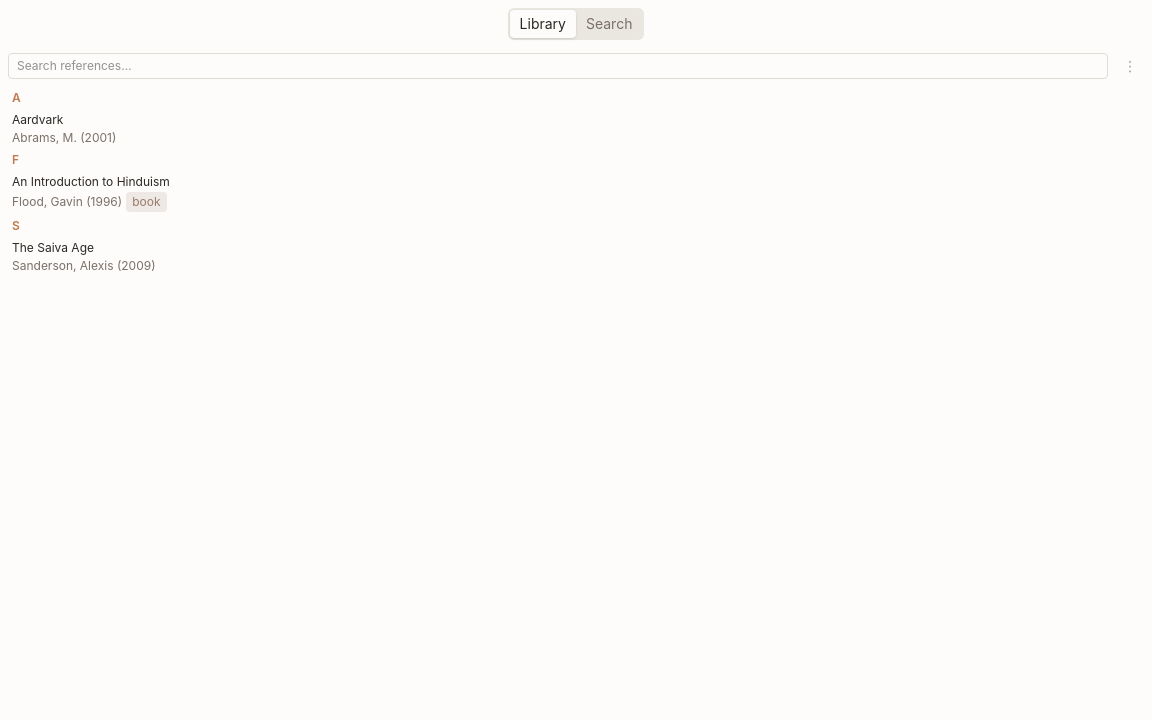
ReferenceLibrary › clicking an expanded entry collapses it
This screenshot has width=1152, height=720.
Click the text with test id "reference-entry-title" showing "The Saiva Age". click: click(53, 248)
box: x1=12 y1=240 x2=94 y2=255
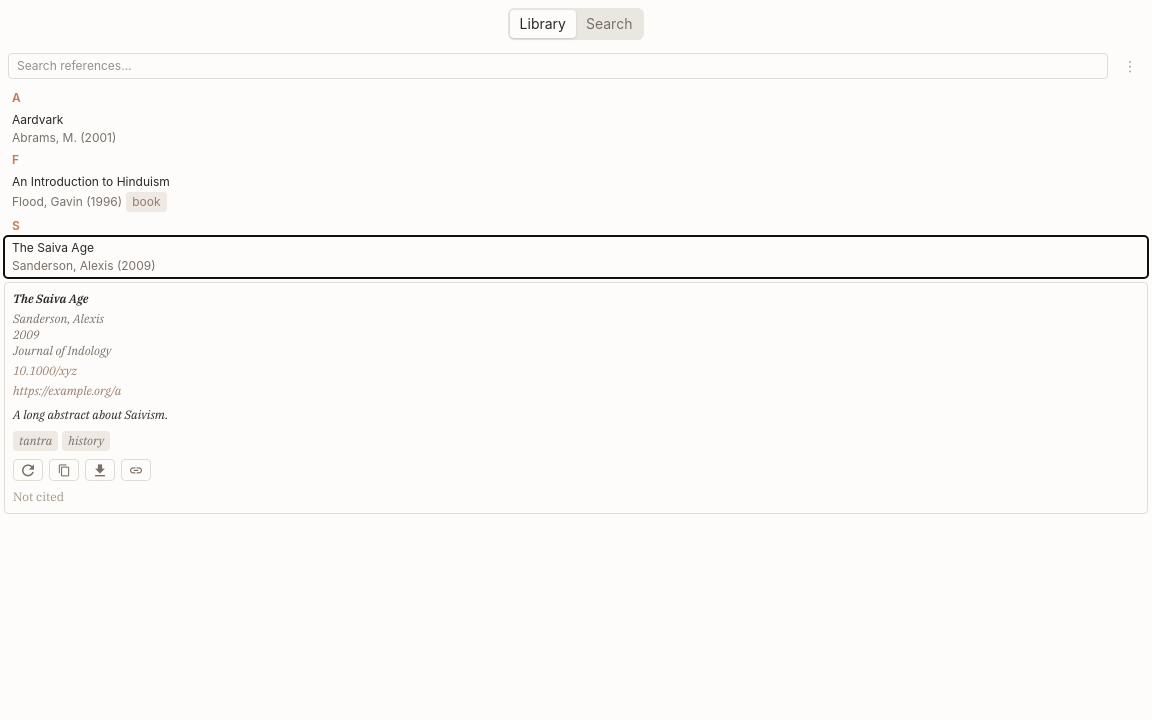
Expected: the text "A long abstract about Saivism." is shown, x1=13 y1=407 x2=168 y2=422
Click the 3rd text with test id "reference-entry-title". click: click(53, 248)
box: x1=12 y1=240 x2=94 y2=255
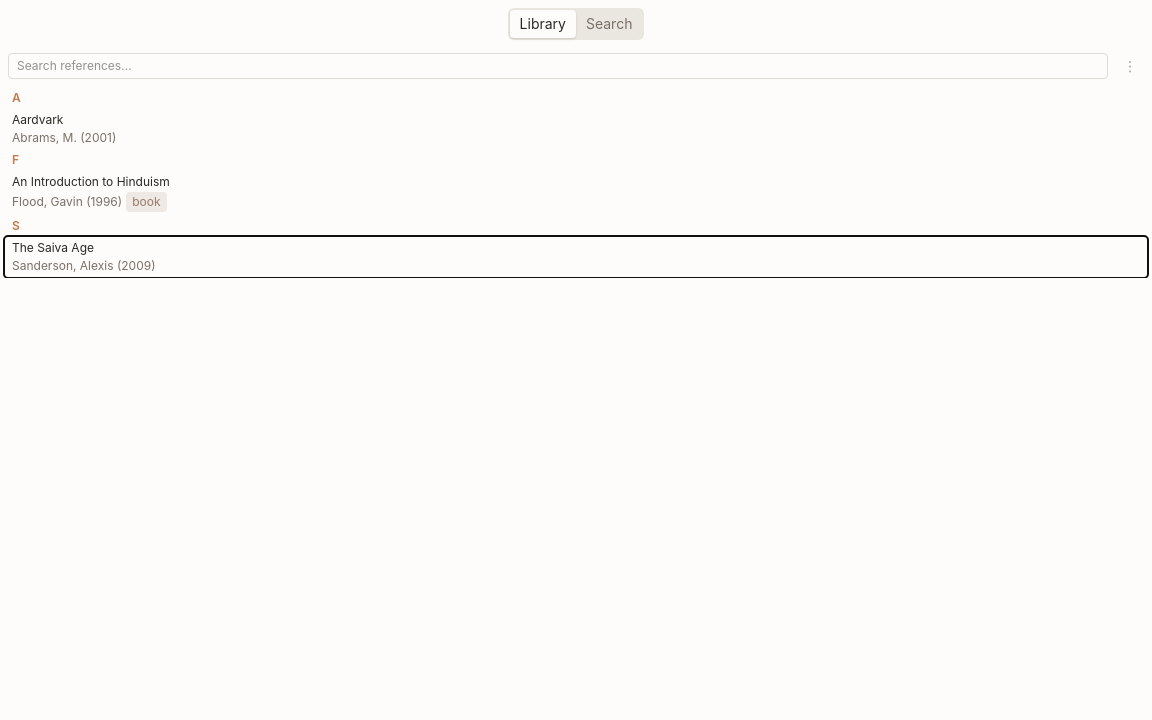
Expected: the text "A long abstract about Saivism." is gone
